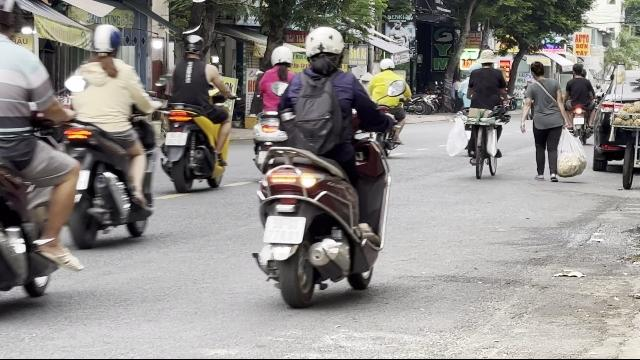helmet: (302, 26, 346, 68), (89, 23, 123, 59), (180, 33, 206, 59), (270, 44, 292, 68), (378, 56, 394, 72)
licenseplate: (264, 216, 304, 244), (166, 132, 187, 144)
motorcyclist: (247, 25, 399, 309), (57, 24, 159, 248), (157, 32, 233, 192), (366, 57, 408, 158)
